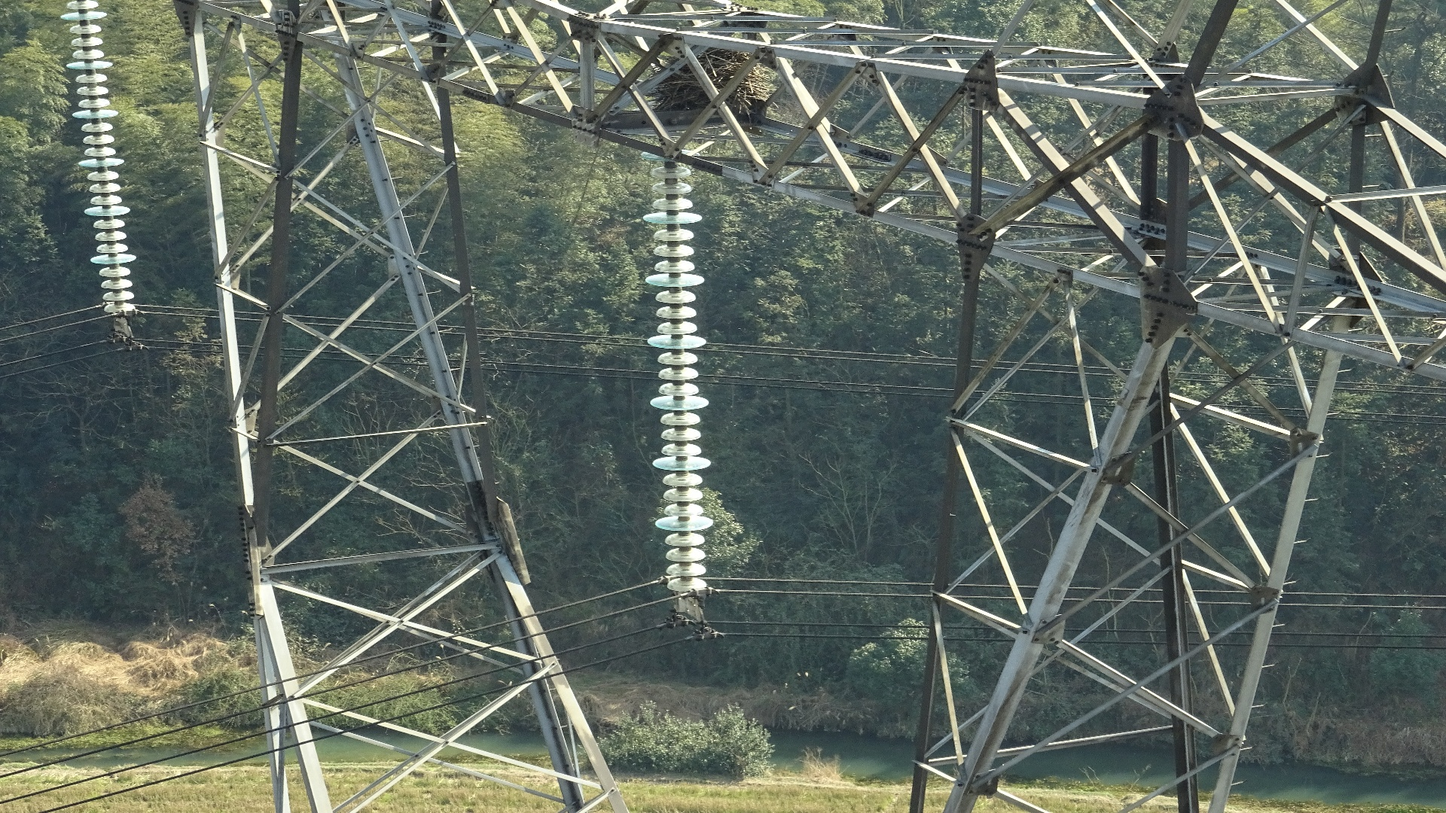insulator: (635, 148, 712, 595), (56, 1, 139, 315)
